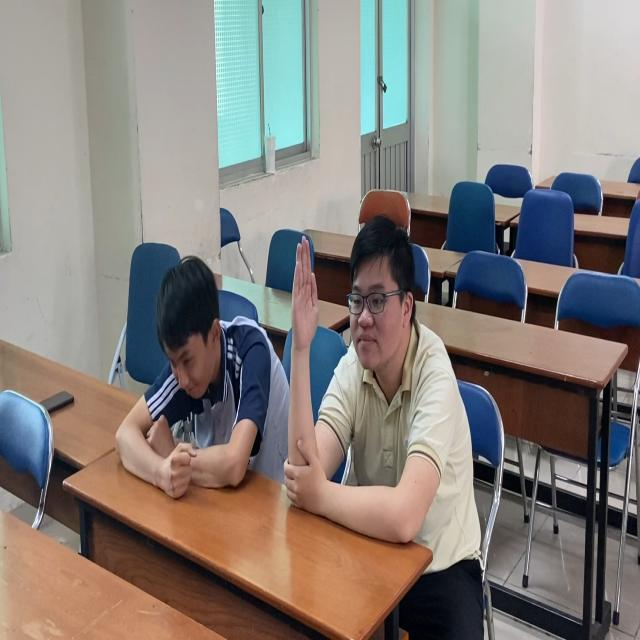raise_hand: (288, 186, 461, 560)
